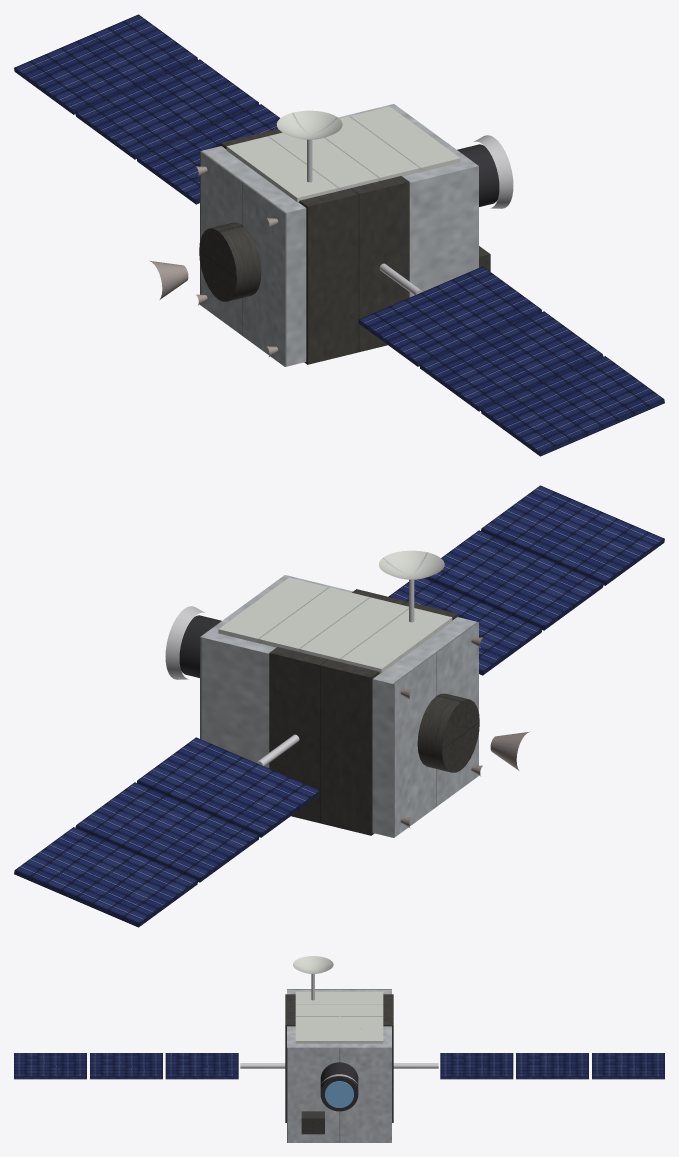
The model's file is cosmos-2612.glb.
3 renders of one model, top to bottom at view 1: azimuth 30°, elevation 25°; view 2: azimuth 150°, elevation 25°; view 3: azimuth 270°, elevation 25°, orthographic. The views are drawn at different scales.
Parts seen in each view (by area): view 1: bus, bus-band, radiator-top, wing-1-2, wing-1-0, wing-1-1, wing--1-1, wing--1-2, wing--1-0, prop-module, dish, sensor-barrel (+2 smaller); view 2: bus, bus-band, radiator-top, wing--1-2, wing-1-2, wing--1-0, wing--1-1, wing-1-1, wing-1-0, prop-module, dish, sensor-barrel (+2 smaller); view 3: bus, radiator-top, wing-1-0, wing--1-0, wing-1-1, wing-1-2, wing--1-1, wing--1-2, bus-band, sensor-barrel, sensor-lens, dish (+1 smaller).
Boxes of the visible parts, <box> form: bus: <box>200,104,478,366</box>; bus-band: <box>220,129,409,364</box>; radiator-top: <box>226,106,460,202</box>; wing-1-2: <box>480,356,664,456</box>; wing-1-0: <box>358,266,541,366</box>; wing-1-1: <box>419,311,603,411</box>; wing--1-1: <box>75,59,259,159</box>; wing--1-2: <box>14,14,197,114</box>; wing--1-0: <box>136,104,279,204</box>; prop-module: <box>199,222,261,301</box>; dish: <box>276,110,342,139</box>; sensor-barrel: <box>457,144,499,206</box>; bus: <box>200,575,478,837</box>; bus-band: <box>269,589,458,835</box>; radiator-top: <box>218,577,452,673</box>; wing--1-2: <box>14,827,198,927</box>; wing-1-2: <box>481,485,664,585</box>; wing--1-0: <box>137,737,320,837</box>; wing--1-1: <box>75,782,259,882</box>; wing-1-1: <box>425,530,603,630</box>; wing-1-0: <box>388,578,542,675</box>; prop-module: <box>417,693,479,772</box>; dish: <box>379,550,444,579</box>; sensor-barrel: <box>179,615,221,677</box>; bus: <box>287,989,391,1142</box>; radiator-top: <box>295,991,383,1043</box>; wing-1-0: <box>165,1053,238,1079</box>; wing--1-0: <box>440,1053,513,1079</box>; wing-1-1: <box>90,1053,162,1079</box>; wing-1-2: <box>14,1053,86,1079</box>; wing--1-1: <box>516,1053,588,1079</box>; wing--1-2: <box>592,1053,664,1079</box>; bus-band: <box>285,994,393,1122</box>; sensor-barrel: <box>320,1062,358,1111</box>; sensor-lens: <box>325,1081,353,1107</box>; dish: <box>293,956,333,973</box>.
Bounding box in the file's own units: 1.68 × 1.02 × 4.46.
8 materials, 4 textured.
